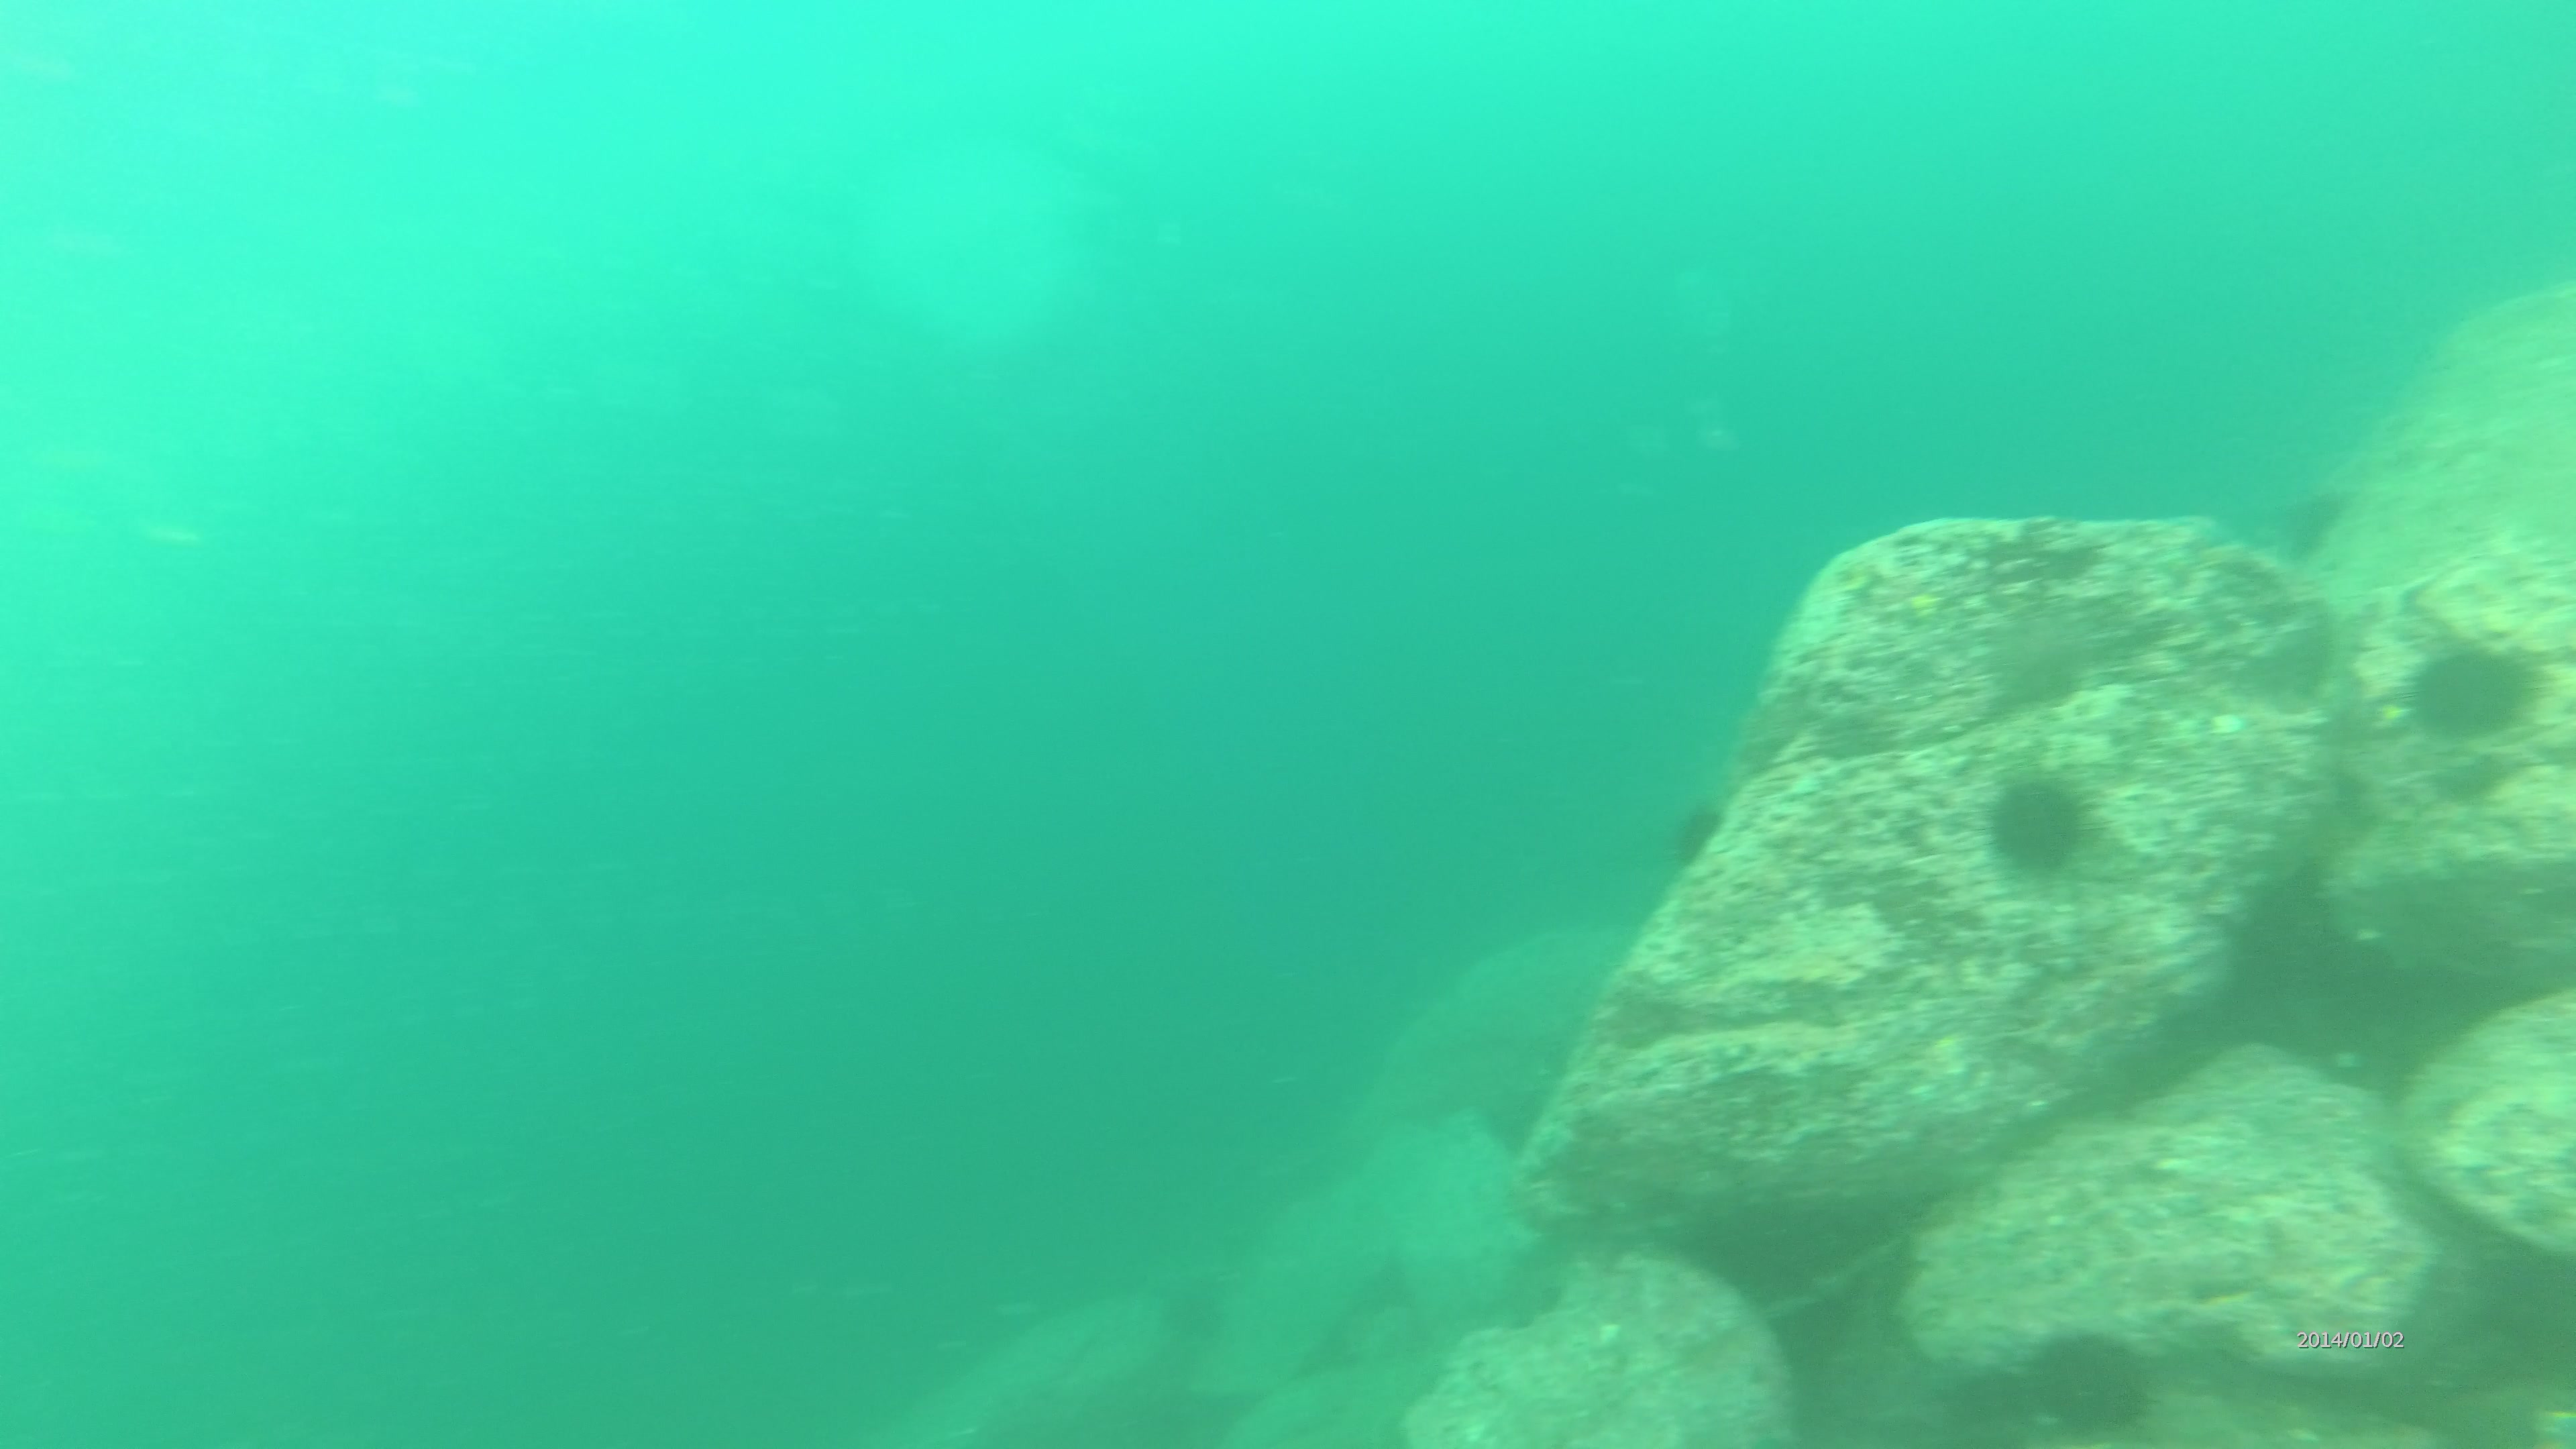echinus: (1999, 1318, 2173, 1444), (2387, 640, 2565, 754), (1980, 771, 2104, 890), (1996, 619, 2091, 711), (2275, 483, 2348, 566), (1661, 794, 1734, 869)
